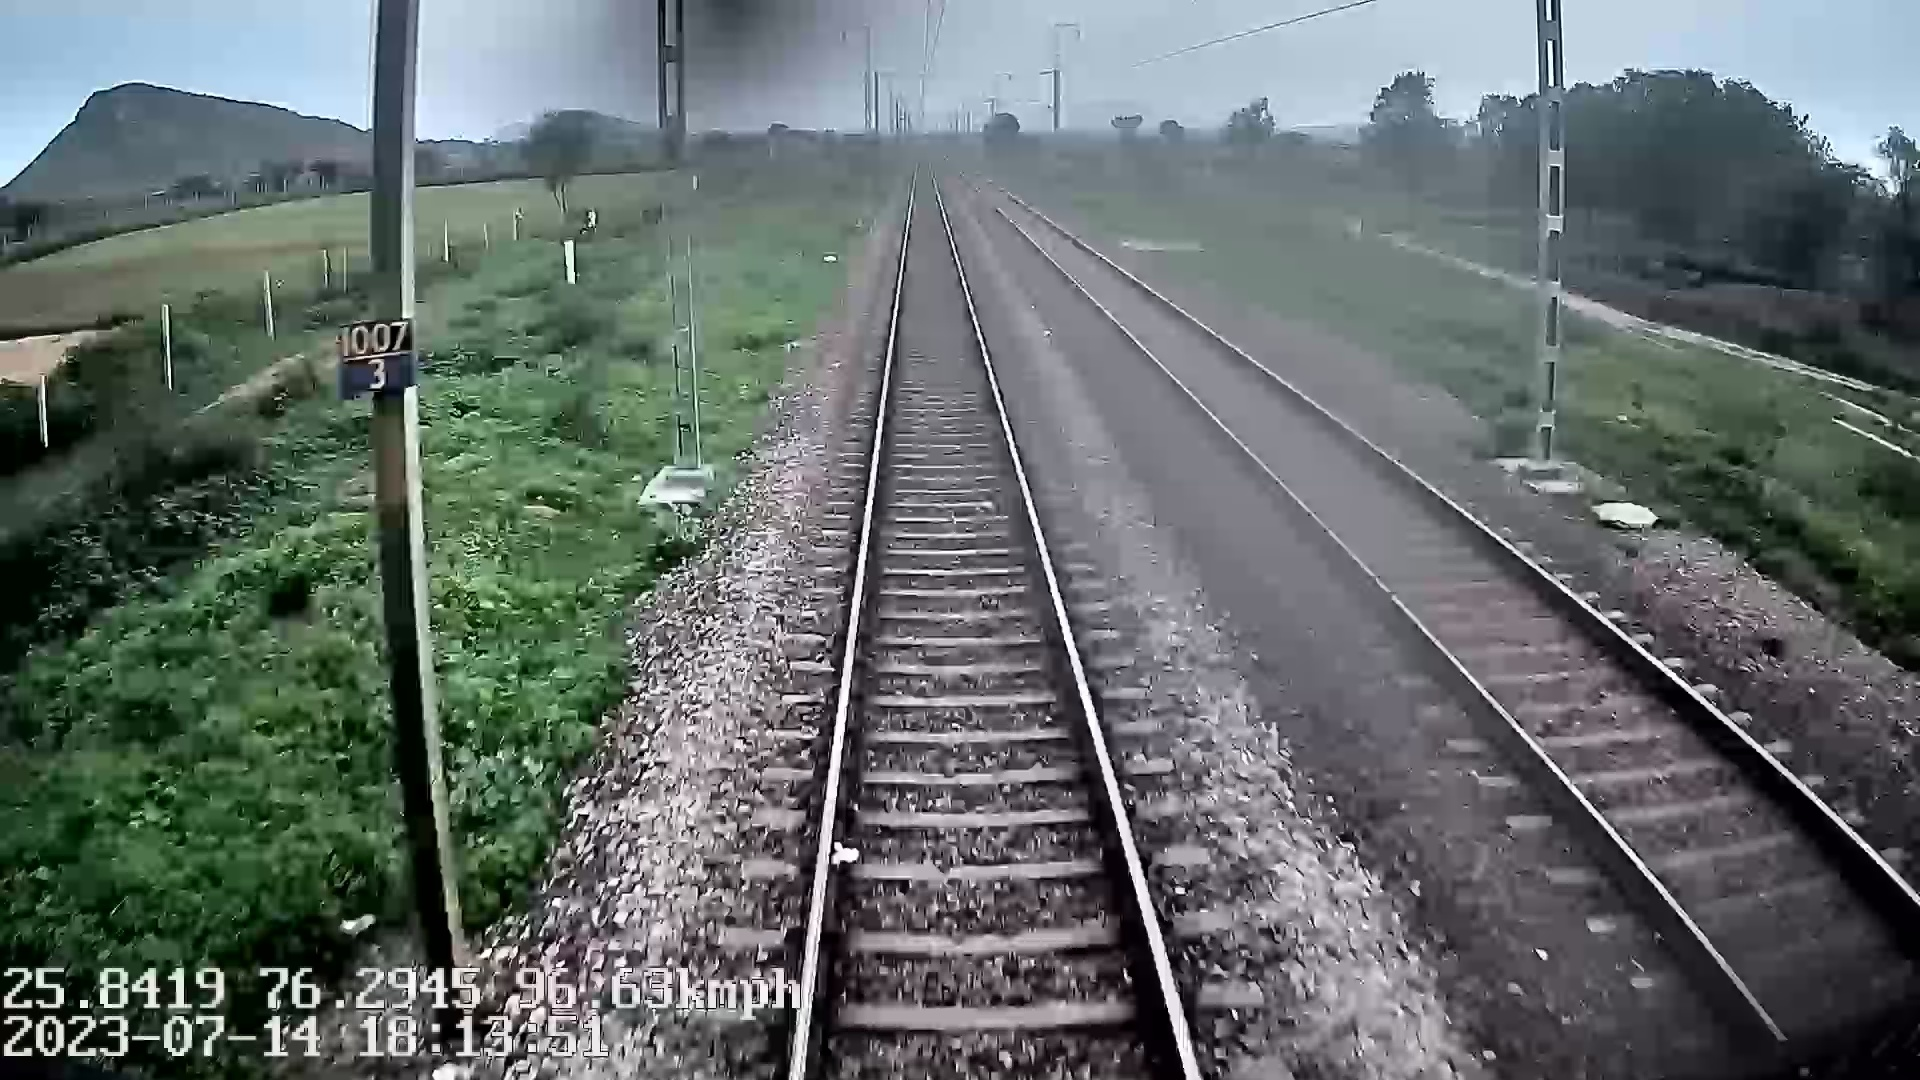track1: (799, 179, 1192, 1065)
track2: (996, 210, 1919, 1039)
